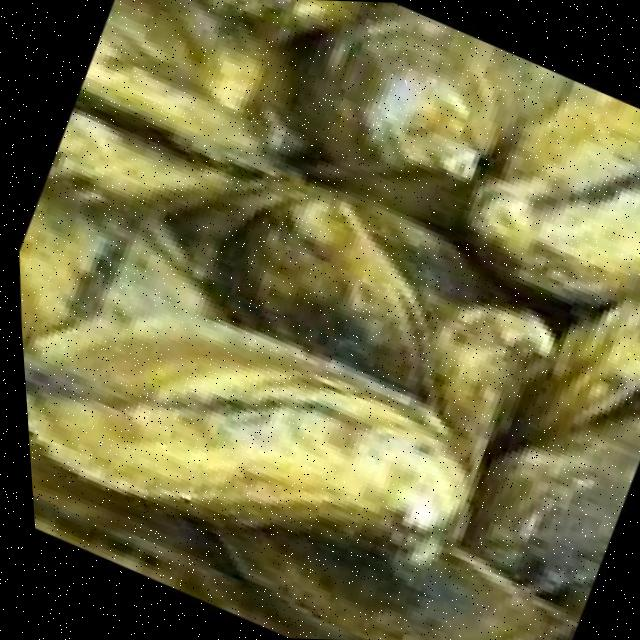Oyster-Closed: (213, 513, 578, 640), (457, 81, 640, 300), (521, 297, 640, 446)
Oyster-Indeterminate: (24, 300, 475, 566), (203, 187, 423, 384), (76, 0, 281, 176), (317, 17, 493, 181), (406, 303, 555, 477), (41, 110, 258, 206), (572, 464, 640, 640)
